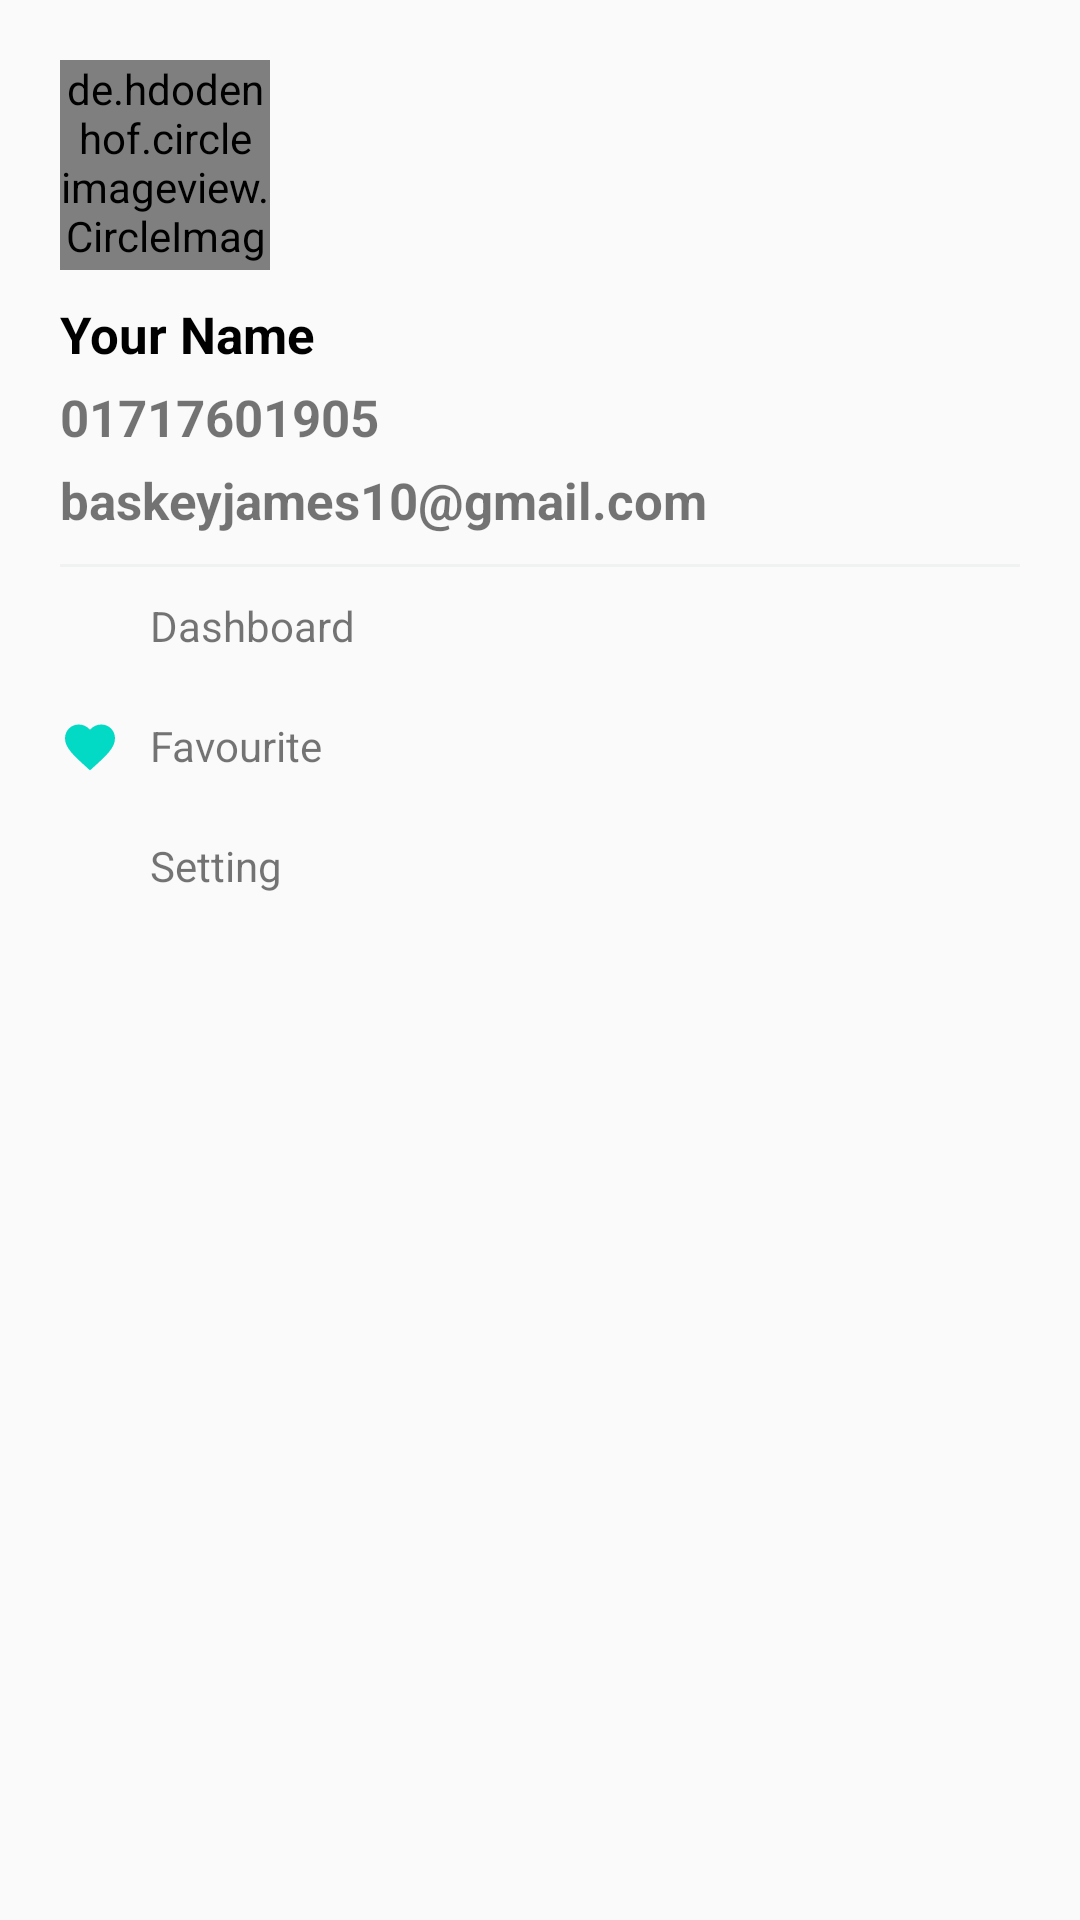

Screen size 1080×1920. Icon name, then its center in pixels as (x,y):
favorite: (90,747)
